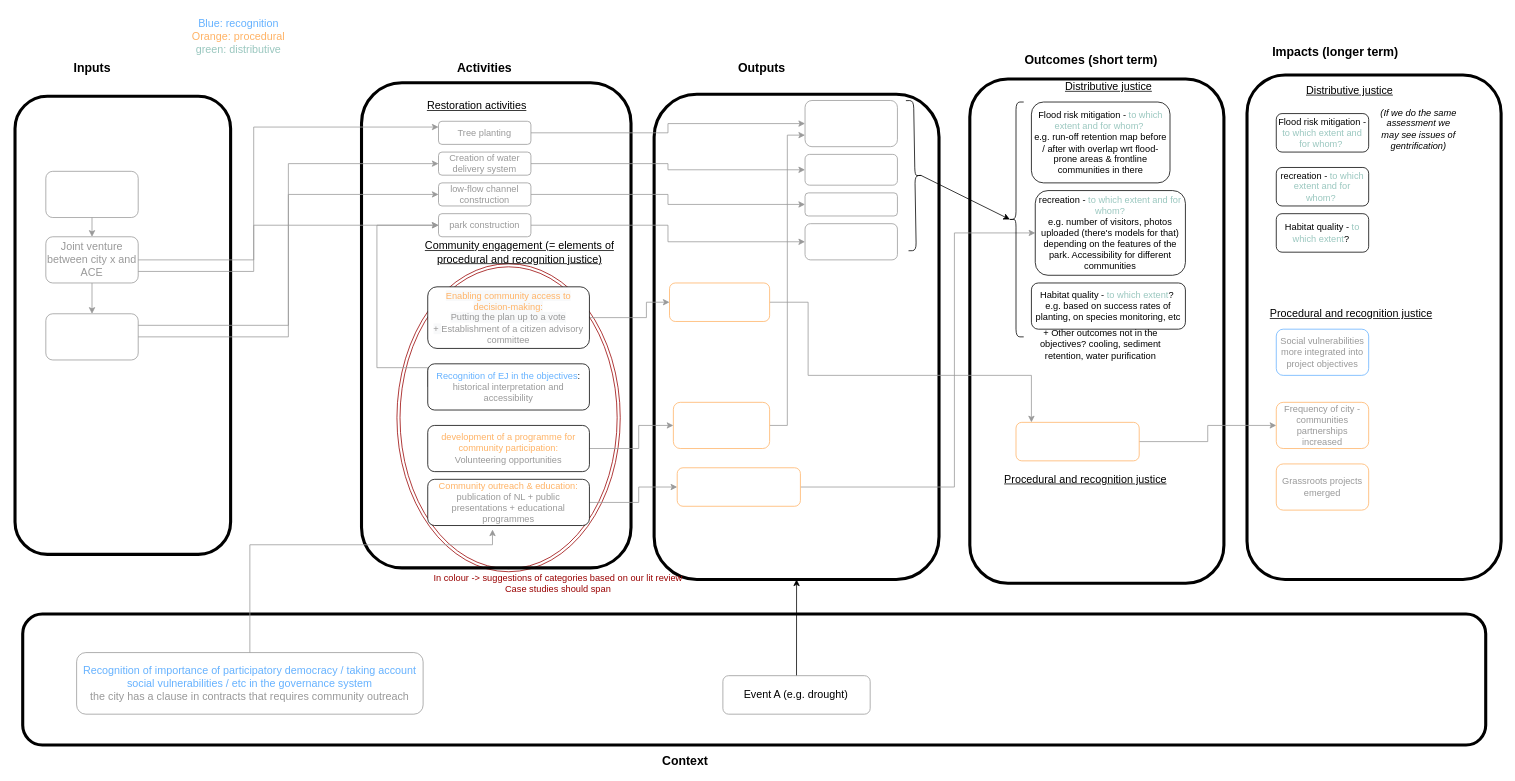
Image size: 1515x781. Some labels were removed from this diagram. The shapes that lost their labels are listed below. From the top down, each one's centre as x and y in pixels, then its label:
(850,123): x acres planted -
(850,169): x wetlands and y ponds and z wells built
(91,194): Funder A
(850,204): low-flow channel
(850,241): park with interpretative trail and outdoor classroom
(719,301): Area plan developed by the committee
(91,336): Contractor B
(721,425): x volunteer hours
(1077,441): community projects validated as part of the plan
(738,486): x NL, y ppl reached by public presentations, z students reached
